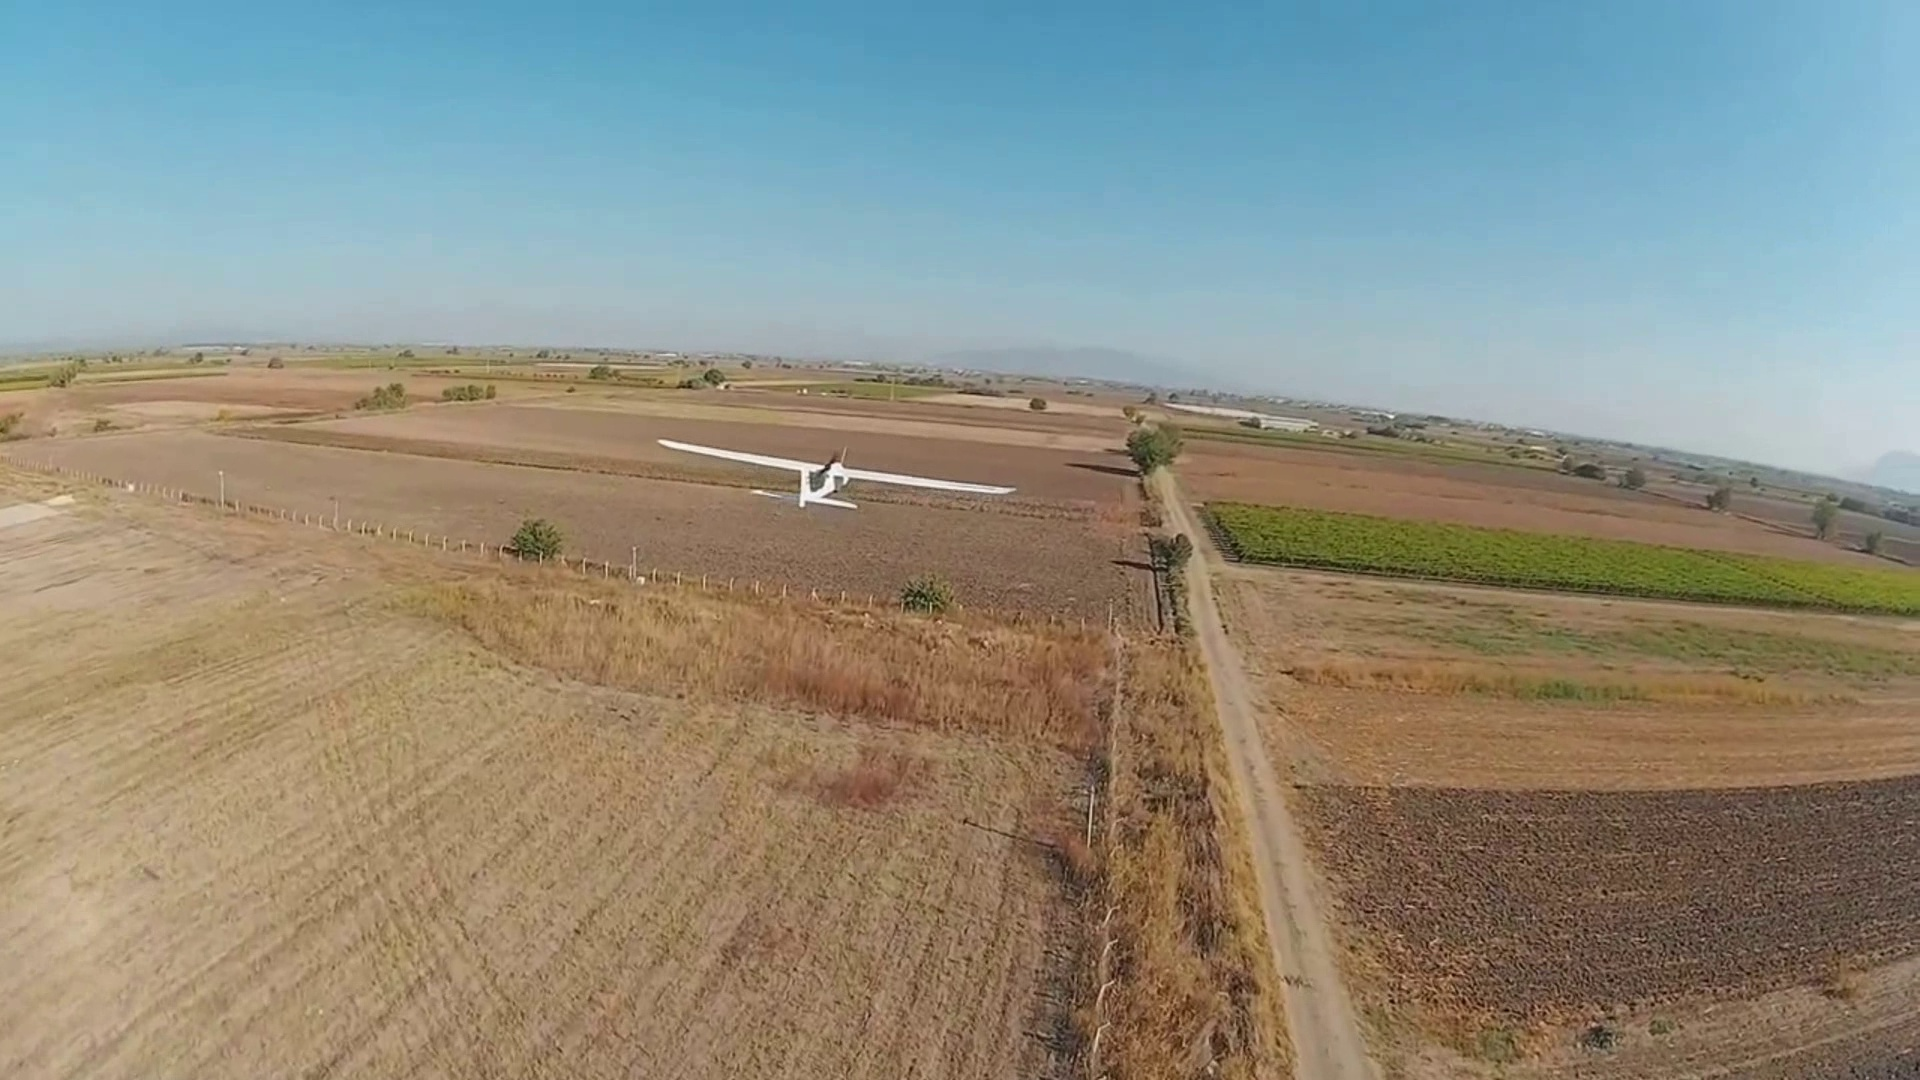airplane: (653, 431, 1015, 512), (653, 436, 852, 510)
